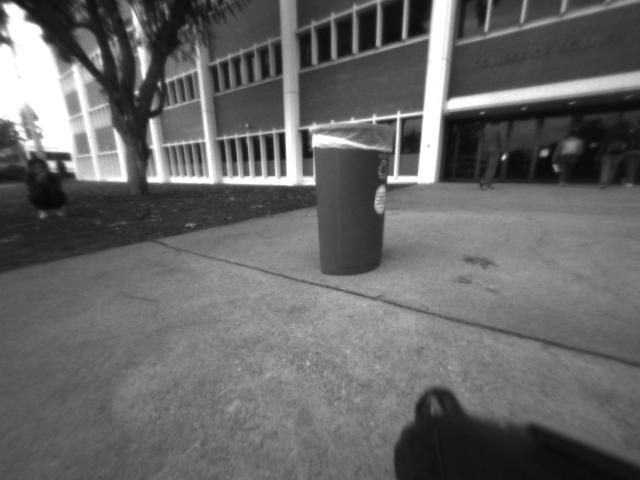trashcan_open: (306, 118, 404, 281)
